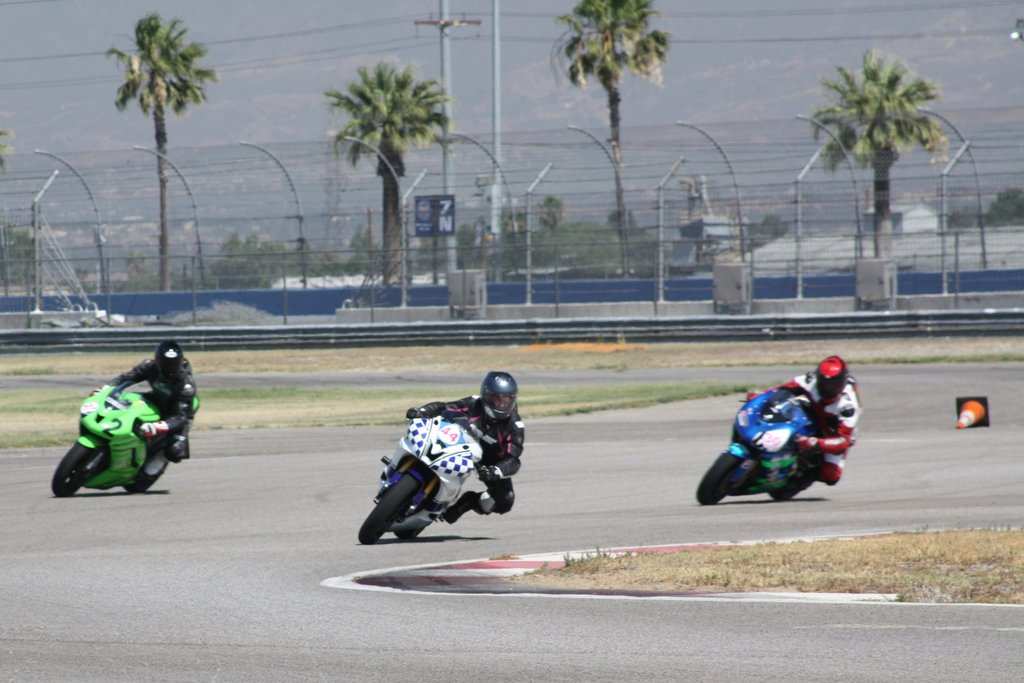Person: (406, 370, 525, 523), (745, 355, 861, 485), (89, 338, 198, 462)
